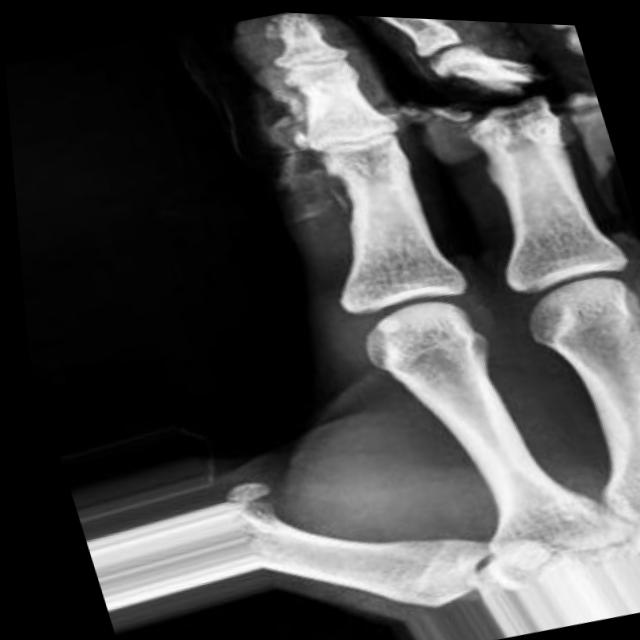fracture: (422, 33, 569, 142)
